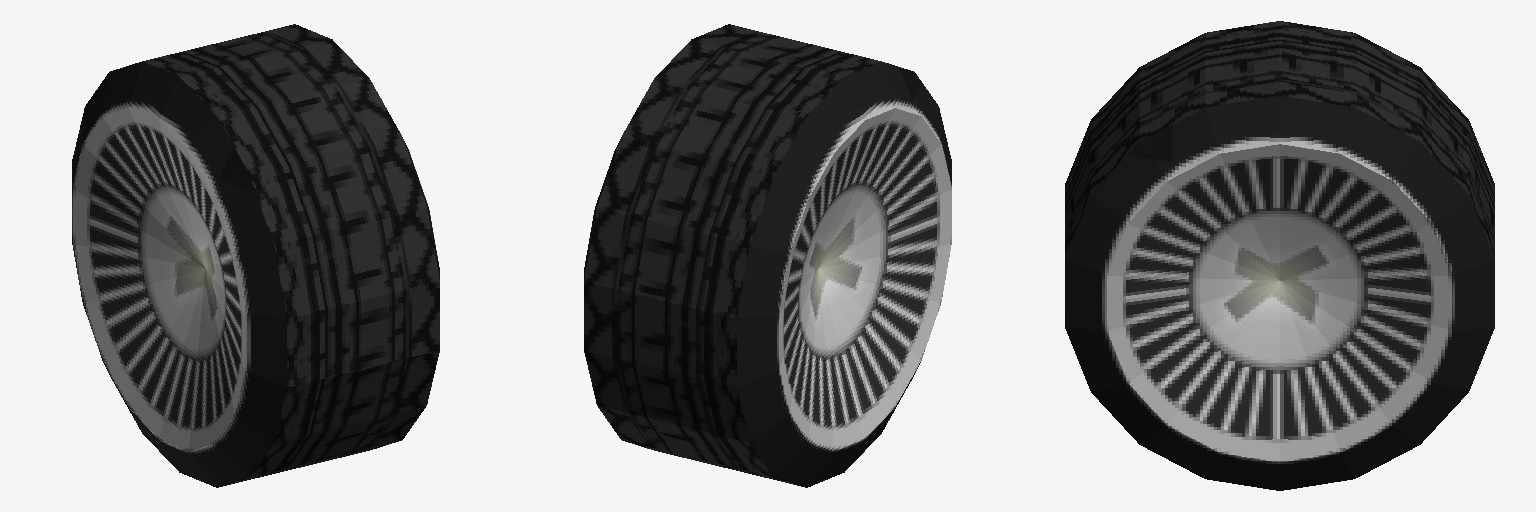
3 views of the same model, side by side, from view 1: azimuth 30°, elevation 25°; view 2: azimuth 150°, elevation 25°; view 3: azimuth 270°, elevation 25° (orthographic).
Visible parts, largest first — view 1: Mesh_wheel_Cylinder01x; view 2: Mesh_wheel_Cylinder01x; view 3: Mesh_wheel_Cylinder01x.
Part boxes in pixels (left/top/right/bottom): Mesh_wheel_Cylinder01x: left=72, top=24, right=439, bottom=487; Mesh_wheel_Cylinder01x: left=584, top=24, right=951, bottom=487; Mesh_wheel_Cylinder01x: left=1065, top=21, right=1494, bottom=490.
Size of the model in its own units: 30.68 by 59.69 by 58.78.
Materials: 1 (1 with a texture image).